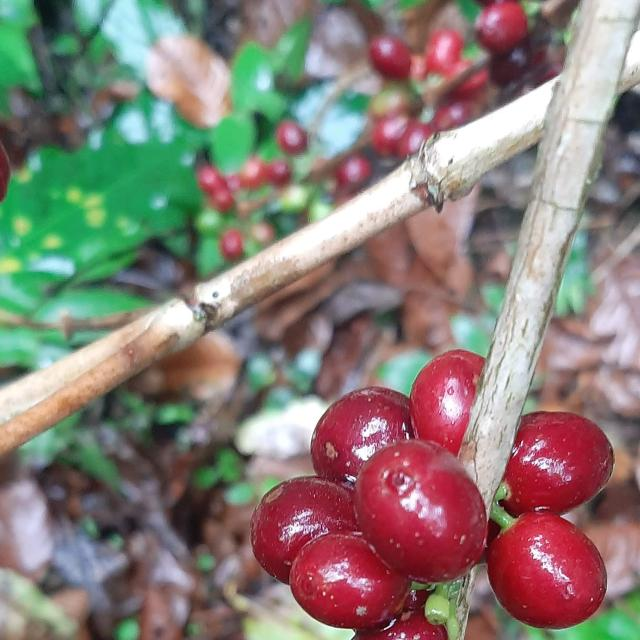red: (355, 440, 488, 584), (488, 513, 608, 630), (289, 533, 411, 631), (502, 412, 615, 516), (251, 477, 358, 585), (311, 387, 413, 482), (410, 350, 485, 455), (354, 610, 449, 640)
